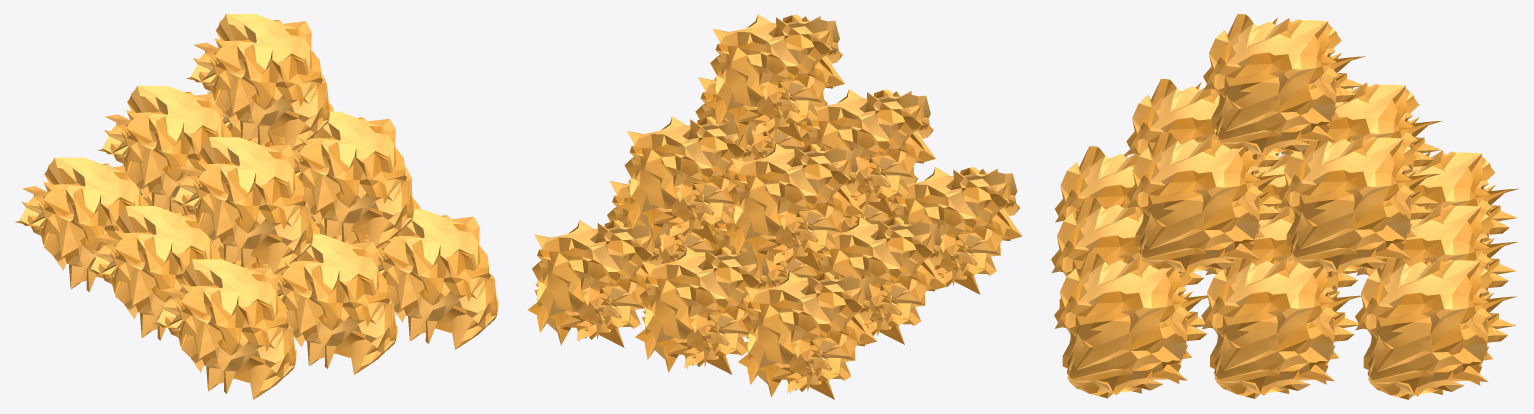
File: OrePile_Gold.glb
3 renders of one model, left to right at view 1: azimuth 30°, elevation 25°; view 2: azimuth 150°, elevation 25°; view 3: azimuth 270°, elevation 25°, orthographic. The views are drawn at different scales.
Visible parts, largest first — view 1: OrePile_Gold; view 2: OrePile_Gold; view 3: OrePile_Gold.
Boxes of the visible parts, bbox=[...] form: OrePile_Gold: bbox=[15, 14, 498, 399]; OrePile_Gold: bbox=[528, 14, 1022, 399]; OrePile_Gold: bbox=[1051, 14, 1518, 399].
Bounding box in the file's own units: 2.8 × 2.48 × 3.34.
1 material, 1 textured.
